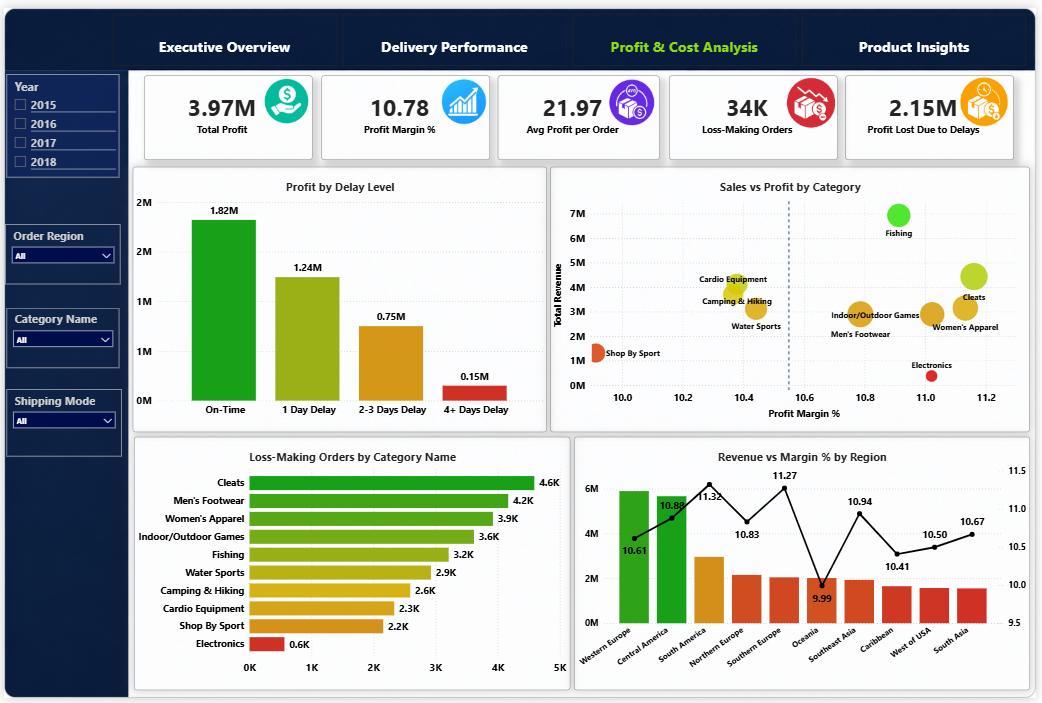

The dashboard page shown, as its layout file describes it:
{"tool":"powerbi","page":{"name":"Profit & Cost Analysis","canvas":[1720,1150],"ordinal":2},"visuals":[{"type":"group","id":"g1","title":"Group 2","box":[234,112,1450,141],"z":0},{"type":"card","title":"Total Revenue","fields":{"Values":["Measure.Total Profit"]},"box":[234,112,280.6,141],"z":0,"group":"g4"},{"type":"clusteredBarChart","fields":{"Category":["final_supply_chain_analytics.Category Name"],"Y":["Measure.Loss-Making Orders"]},"box":[216,715,727,422],"z":0,"group":"g3"},{"type":"card","title":"Avg Delay","fields":{"Values":["Measure.Loss-Making Orders"]},"box":[1108.3,112,280.6,141],"z":1000,"group":"g4"},{"type":"group","id":"g2","title":"Group 3","box":[215,265,1494,442],"z":1000},{"type":"clusteredColumnChart","title":"Profit by Delay Level","fields":{"Category":["final_supply_chain_analytics.Delay Bucket"],"Y":["Measure.Total Profit"]},"box":[215,265,690,442],"z":1000,"group":"g2"},{"type":"lineClusteredColumnComboChart","title":"Revenue vs Margin % by Region","fields":{"Category":["final_supply_chain_analytics.Order Region"],"Y":["Measure.Total Revenue"],"Y2":["Measure.Profit Margin %"]},"box":[950,715,760,422],"z":1000,"group":"g3"},{"type":"card","title":"Total Order","fields":{"Values":["Measure.Avg Profit per Order"]},"box":[824.1,112,269.8,141],"z":2000,"group":"g4"},{"type":"scatterChart","title":"Sales vs Profit by Category","fields":{"Y":["Measure.Total Revenue"],"Category":["final_supply_chain_analytics.Category Name"],"Size":["Measure.Total Orders"],"X":["Measure.Profit Margin %"]},"box":[910,265,799,442],"z":2000,"group":"g2"},{"type":"group","id":"g3","title":"Group 5","box":[216,715,1494,422],"z":2000},{"type":"image","box":[1003,111,89,96],"z":3000},{"type":"card","title":"Total Profit","fields":{"Values":["Measure.Profit Margin %"]},"box":[529.1,112,280.6,141],"z":3000,"group":"g4"},{"type":"image","box":[422,111,96,90],"z":4000},{"type":"card","title":"Late Delivery %","fields":{"Values":["Measure.Profit Lost Due to Delays"]},"box":[1403.4,112,280.6,141],"z":4000,"group":"g4"},{"type":"group","id":"g4","title":"Group 1","box":[234,112,1450,141],"z":4003,"group":"g1"},{"type":"image","box":[719,111,96,93],"z":5000},{"type":"image","box":[1297,111,94,96],"z":6000},{"type":"image","box":[1586,112,96,90],"z":7000},{"type":"slicer","fields":{"Values":["final_supply_chain_analytics.Year"]},"box":[4,110,188,172],"z":8000},{"type":"slicer","fields":{"Values":["final_supply_chain_analytics.Order Region"]},"box":[3,360,192,100],"z":9000},{"type":"slicer","fields":{"Values":["final_supply_chain_analytics.Category Name"]},"box":[4,501,188,100],"z":10000},{"type":"slicer","fields":{"Values":["final_supply_chain_analytics.Shipping Mode"]},"box":[4,635,192,112],"z":11000},{"type":"pageNavigator","box":[181,11,1523,86],"z":12000}]}

Visuals, with their boxes in screenshot pixels (x1, y1, x2, y2), scaled from the page's 1720x1150 canvas onto the 1042x703 screenshot:
"Group 2" group: 142, 68, 1020, 155
"Total Revenue" card: 142, 68, 312, 155
clusteredBarChart - final_supply_chain_analytics.Category Name x Measure.Loss-Making Orders: 131, 437, 571, 695
"Avg Delay" card: 671, 68, 841, 155
"Group 3" group: 130, 162, 1035, 432
"Profit by Delay Level" clusteredColumnChart: 130, 162, 548, 432
"Revenue vs Margin % by Region" lineClusteredColumnComboChart: 576, 437, 1036, 695
"Total Order" card: 499, 68, 663, 155
"Sales vs Profit by Category" scatterChart: 551, 162, 1035, 432
"Group 5" group: 131, 437, 1036, 695
image: 608, 68, 662, 127
"Total Profit" card: 321, 68, 491, 155
image: 256, 68, 314, 123
"Late Delivery %" card: 850, 68, 1020, 155
"Group 1" group: 142, 68, 1020, 155
image: 436, 68, 494, 125
image: 786, 68, 843, 127
image: 961, 68, 1019, 123
slicer - final_supply_chain_analytics.Year: 2, 67, 116, 172
slicer - final_supply_chain_analytics.Order Region: 2, 220, 118, 281
slicer - final_supply_chain_analytics.Category Name: 2, 306, 116, 367
slicer - final_supply_chain_analytics.Shipping Mode: 2, 388, 119, 457
pageNavigator: 110, 7, 1032, 59
